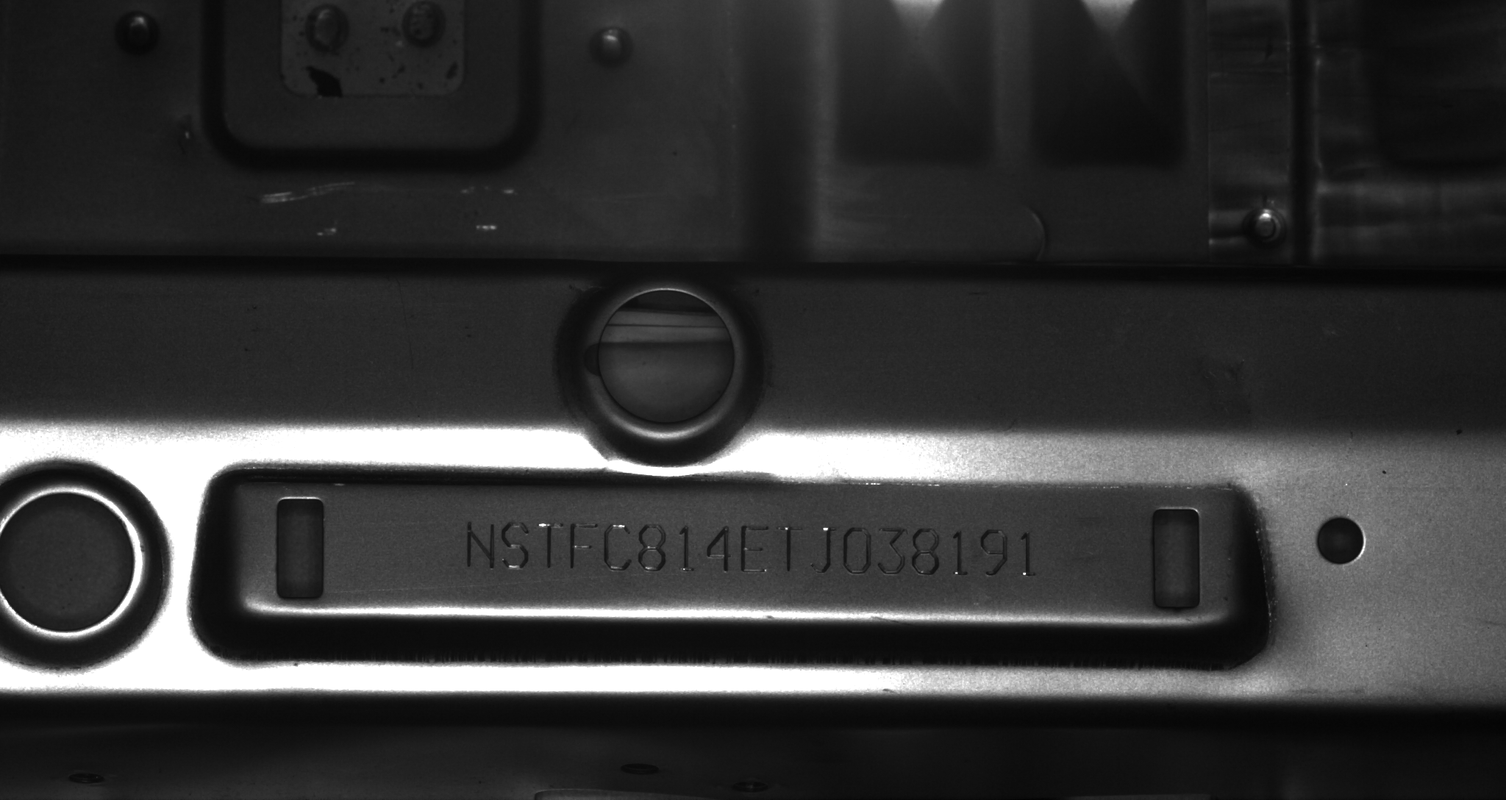qy_vin_plate: (228, 477, 1240, 626)
